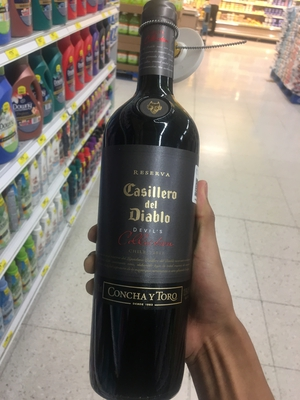casillero del diablo devils collection rojo: (89, 10, 198, 400)
